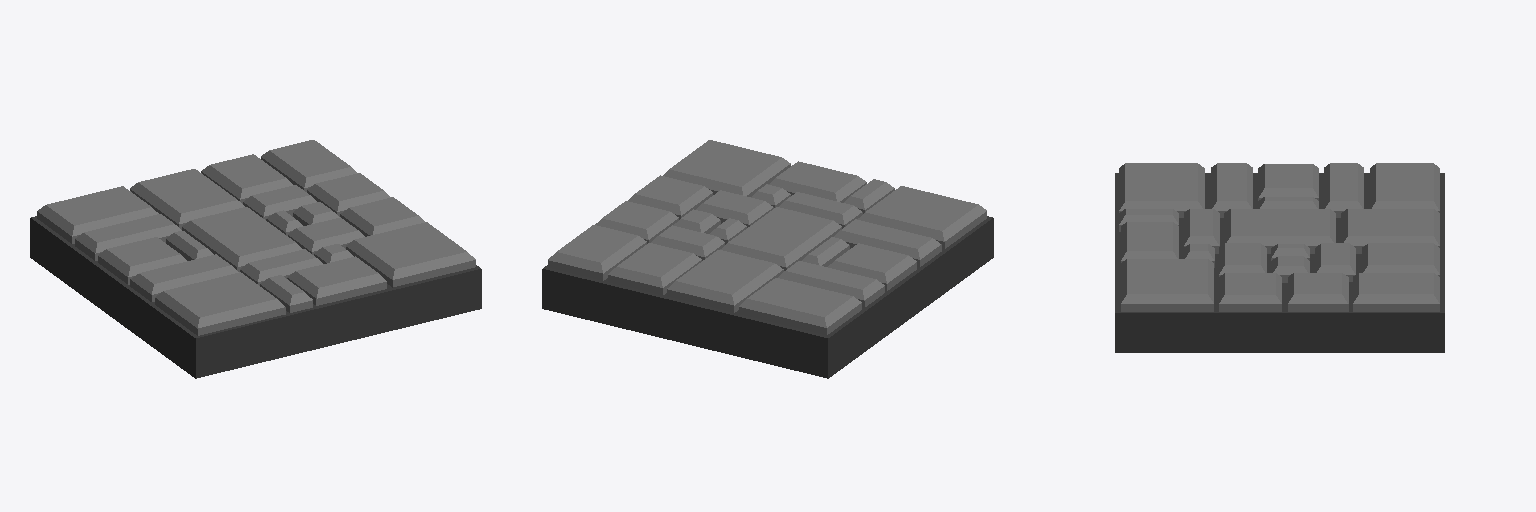
The model's file is ModularFloor.obj.
3 views of the same model, side by side, from view 1: azimuth 30°, elevation 25°; view 2: azimuth 150°, elevation 25°; view 3: azimuth 270°, elevation 25° (orthographic).
Visible parts, largest first — view 1: ModularFloor_Cube.000; view 2: ModularFloor_Cube.000; view 3: ModularFloor_Cube.000.
Boxes of the visible parts, x1,y1,x2,y2 form: ModularFloor_Cube.000: [30, 140, 481, 378]; ModularFloor_Cube.000: [542, 140, 993, 378]; ModularFloor_Cube.000: [1115, 163, 1444, 352].
Bounding box in the file's own units: 2 × 0.3667 × 2.